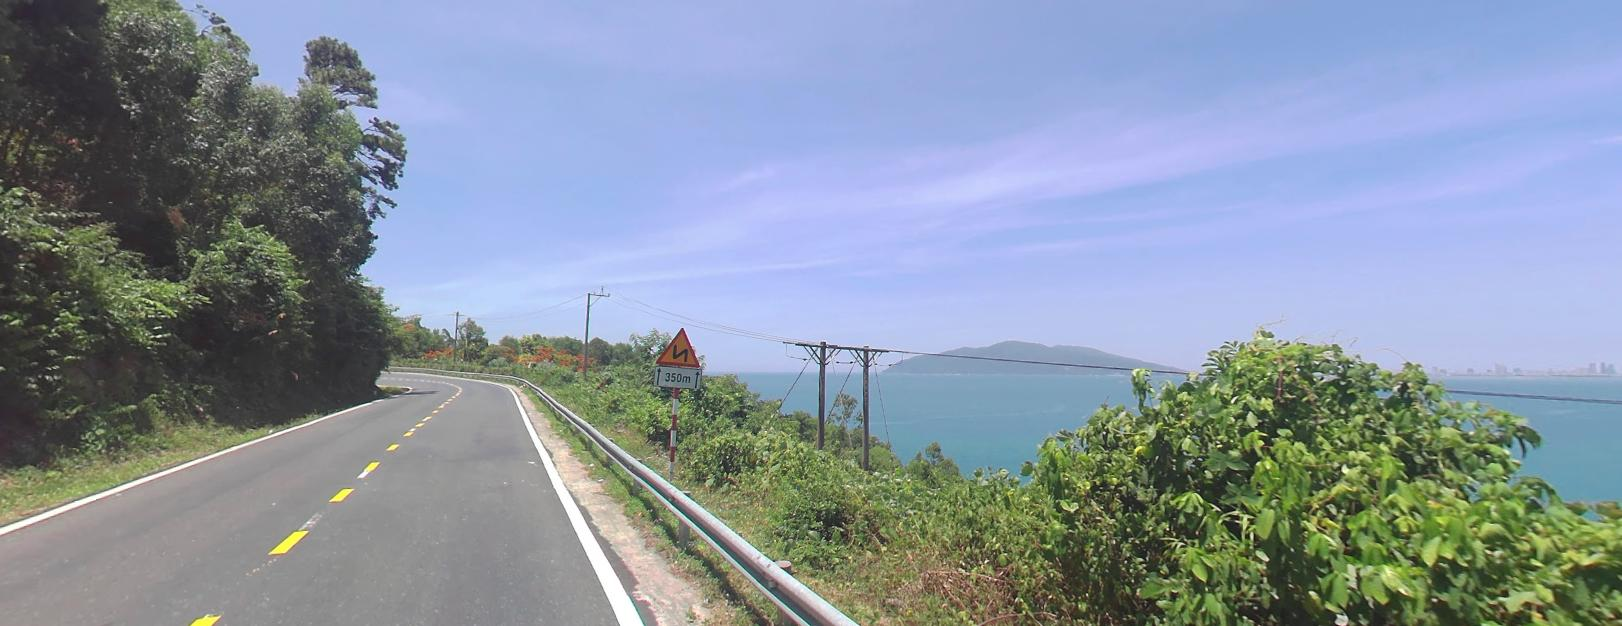Nguy hiem: (651, 319, 707, 364)
